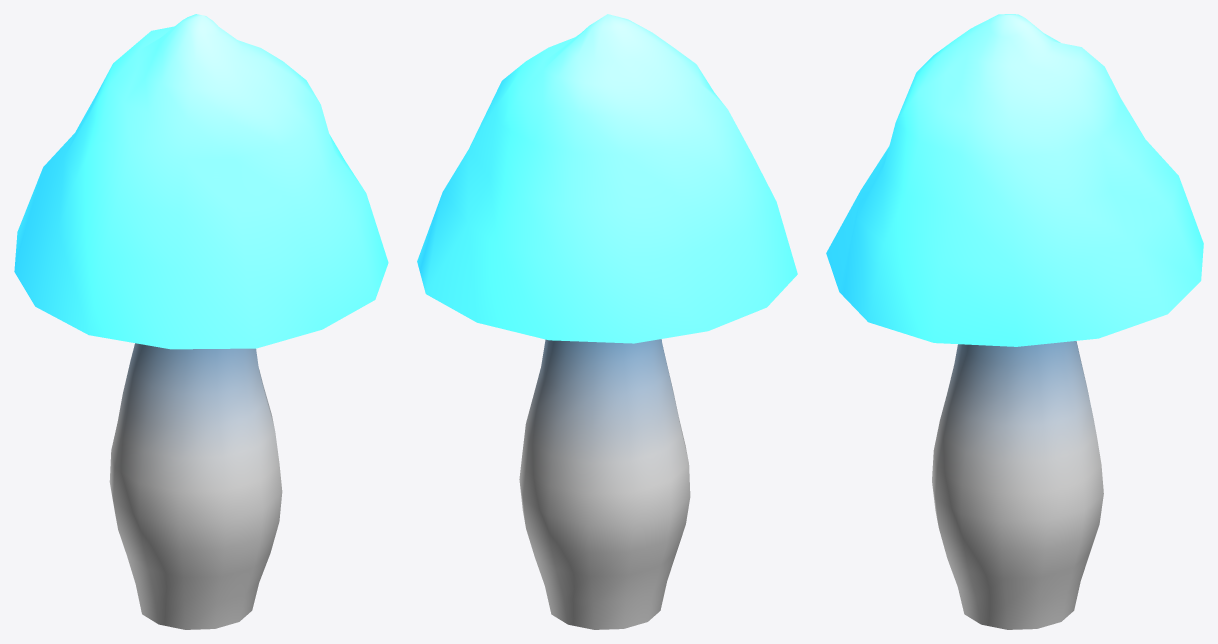
File: mushroom_3.glb
3 views of the same model, side by side, from view 1: azimuth 30°, elevation 25°; view 2: azimuth 150°, elevation 25°; view 3: azimuth 270°, elevation 25° (orthographic).
Parts seen in each view (by area): view 1: geo1; view 2: geo1; view 3: geo1.
Part boxes in pixels (x1,y1,x2,y2): geo1: (14,14,388,629); geo1: (417,14,797,629); geo1: (826,14,1203,629).
Bounding box in the file's own units: 0.2311 × 0.4132 × 0.2391.
